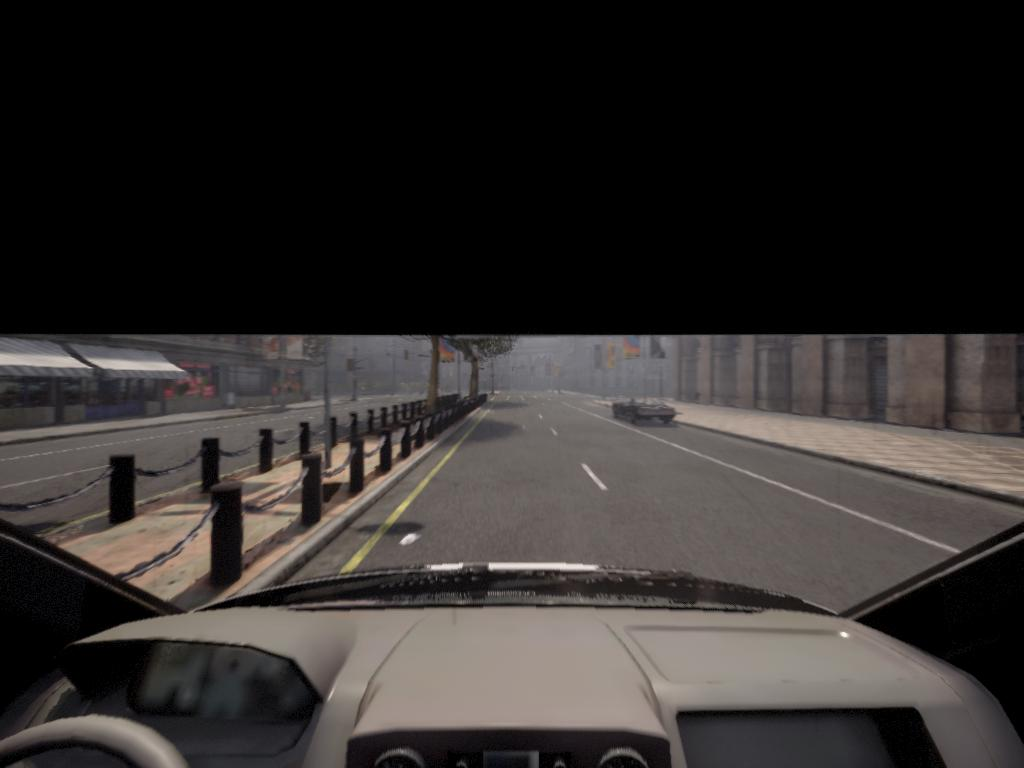traffic_light: (404, 350, 410, 364)
